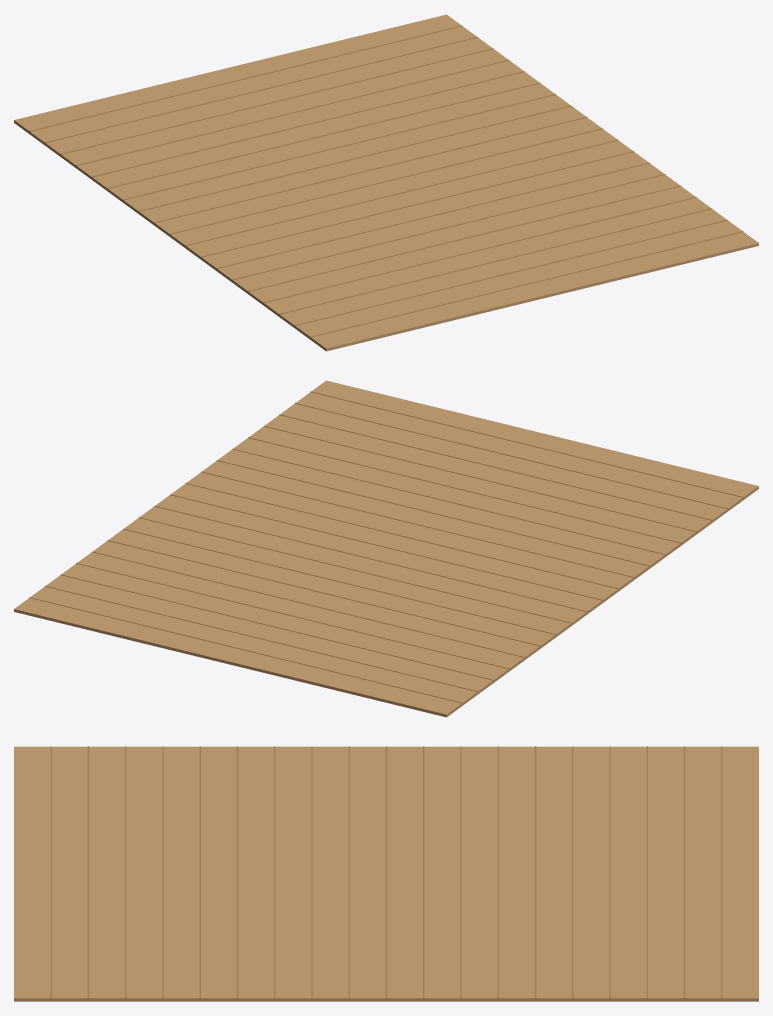
Rendered from Boxing_Floor.fbx.
The picture shows the model from 3 angles, top to bottom: view 1: azimuth 30°, elevation 25°; view 2: azimuth 150°, elevation 25°; view 3: azimuth 270°, elevation 25°; orthographic projection. The views are drawn at different scales.
Parts seen in each view (by area): view 1: Floor; view 2: Floor; view 3: Floor.
Part boxes in pixels (x1=…): Floor: x1=14, y1=14, x2=758, y2=351; Floor: x1=14, y1=380, x2=758, y2=717; Floor: x1=14, y1=746, x2=758, y2=1001.
Bounding box in the file's own units: 16 × 0.112 × 20.
